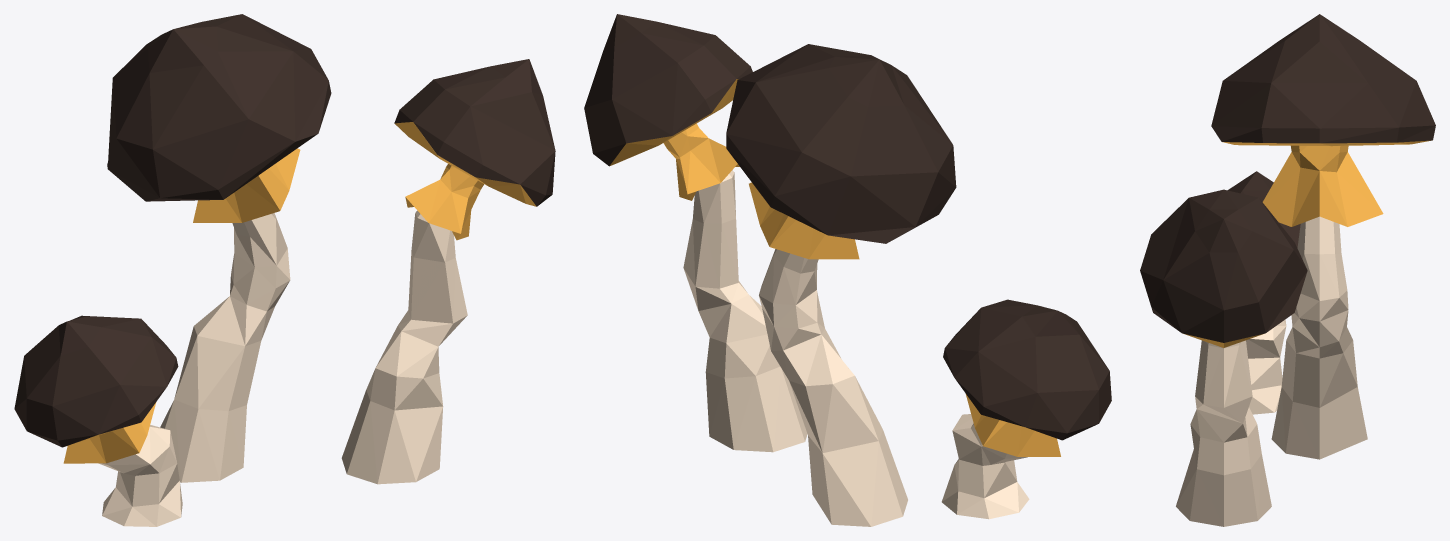
The model's file is _mashroom_4.glb.
3 renders of one model, left to right at view 1: azimuth 30°, elevation 25°; view 2: azimuth 150°, elevation 25°; view 3: azimuth 270°, elevation 25°, orthographic. The views are drawn at different scales.
Parts seen in each view (by area): view 1: mashroom_4; view 2: mashroom_4; view 3: mashroom_4.
Boxes of the visible parts, <box> form: mashroom_4: <box>14,14,555,526</box>; mashroom_4: <box>584,14,1111,526</box>; mashroom_4: <box>1140,14,1435,526</box>.
Bounding box in the file's own units: 0.9086 × 0.7521 × 0.4856.
Materials: 1 (1 with a texture image).
